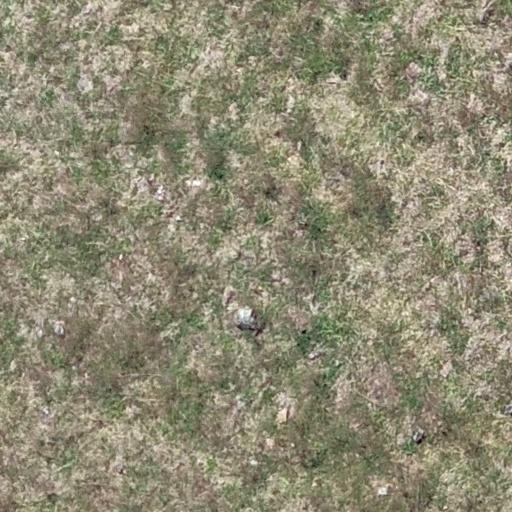stone: (220, 285, 238, 307), (404, 61, 422, 81), (275, 404, 292, 424), (325, 73, 345, 86), (307, 349, 325, 361), (172, 460, 186, 473), (252, 285, 264, 297), (46, 491, 58, 503), (377, 485, 389, 496), (118, 466, 126, 476)
